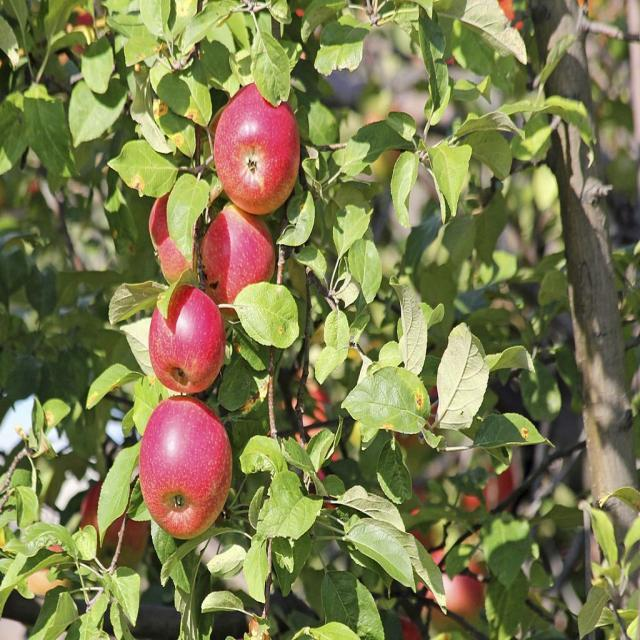Red Apple: (141, 396, 243, 540), (209, 84, 303, 212), (204, 188, 278, 302), (148, 287, 223, 396), (145, 182, 207, 281)
